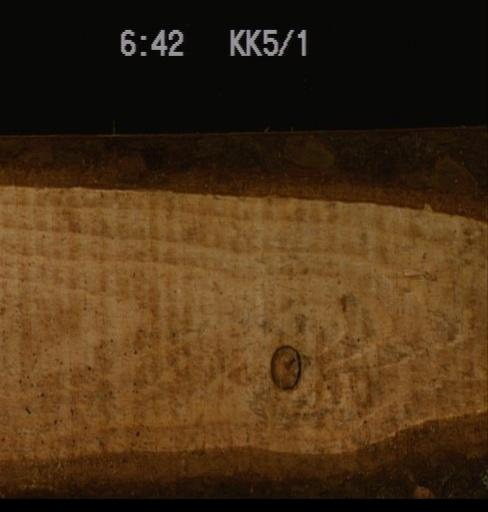dry_knot: (267, 342, 300, 389)
wave: (0, 123, 486, 218), (0, 407, 486, 497)
